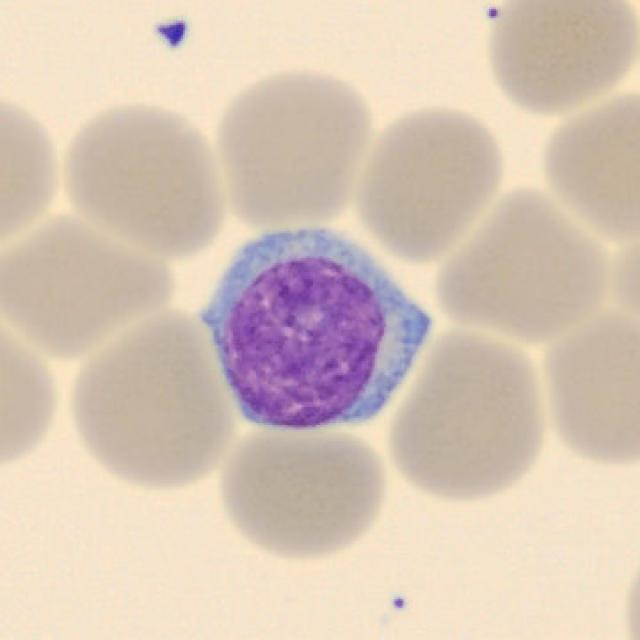Linfocito atipico: (199, 229, 434, 432)
